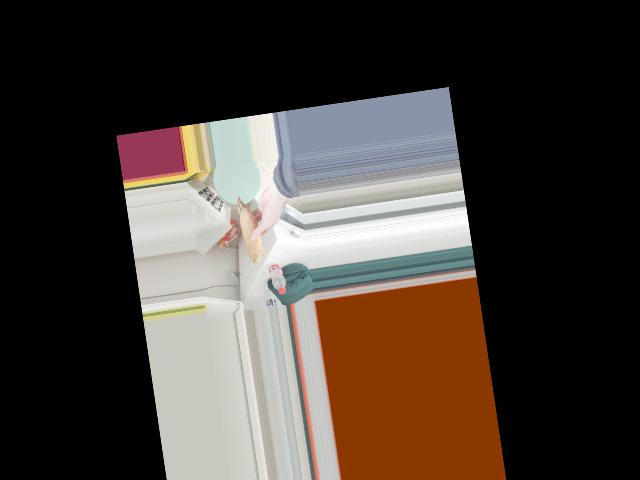sweet_potato: (235, 192, 264, 260)
